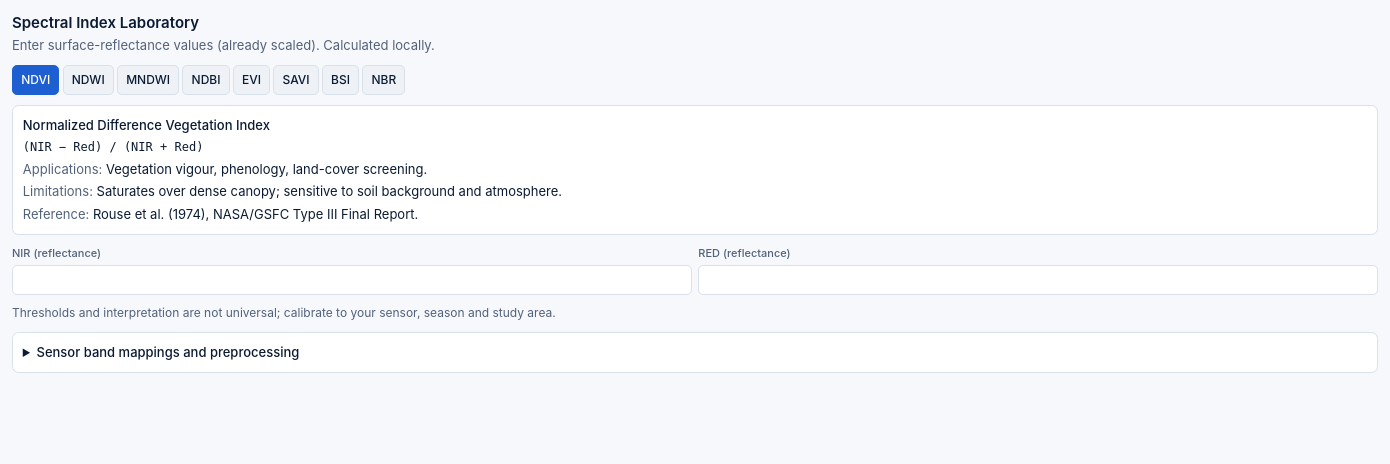
Test case: components › index lab handles zero denominator
This screenshot has width=1390, height=464.
In the field labelled "NIR (reflectance)": (352,280) x1=12 y1=265 x2=692 y2=295, type "0"
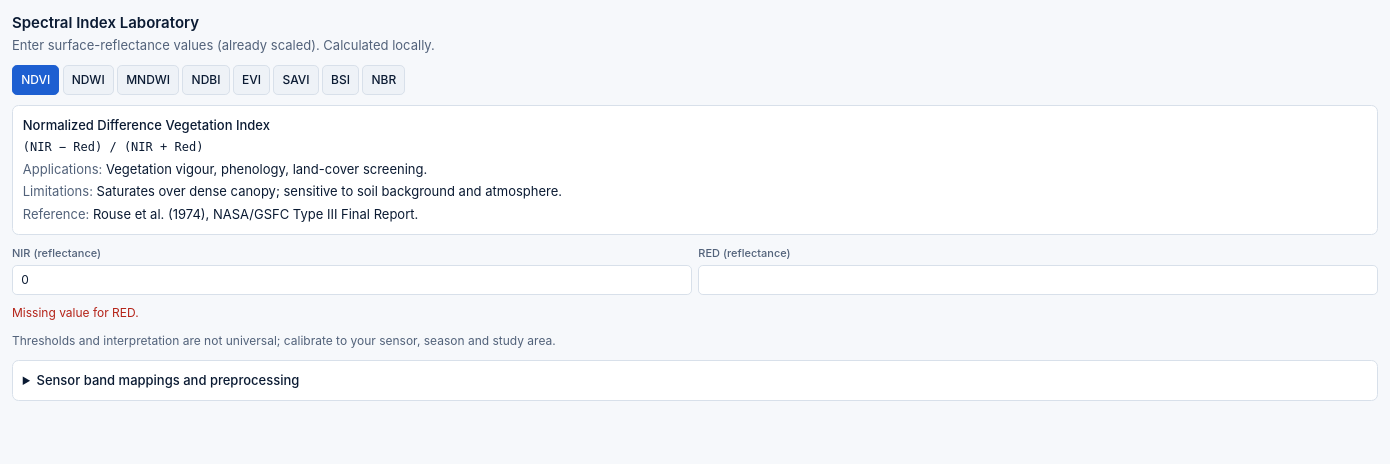
In the field labelled "RED (reflectance)": (1038,280) x1=698 y1=265 x2=1378 y2=295, type "0"
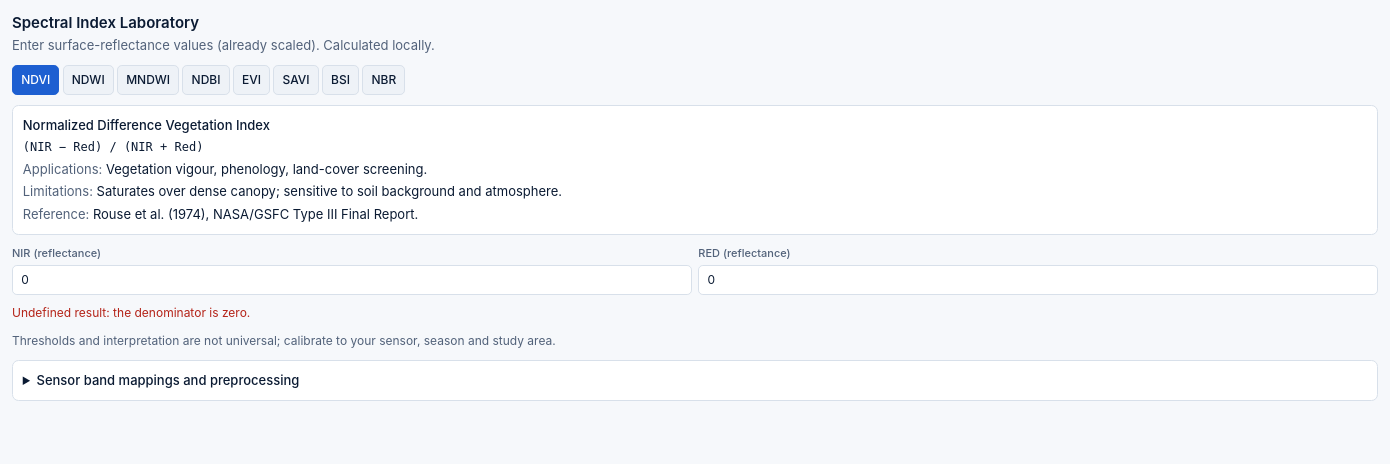
Now the message "Undefined result: the denominator is zero." is shown, box x1=12 y1=305 x2=250 y2=320
Replace the text in the field labelled "NIR (reflectance)" with "0.5": (352,280) x1=12 y1=265 x2=692 y2=295
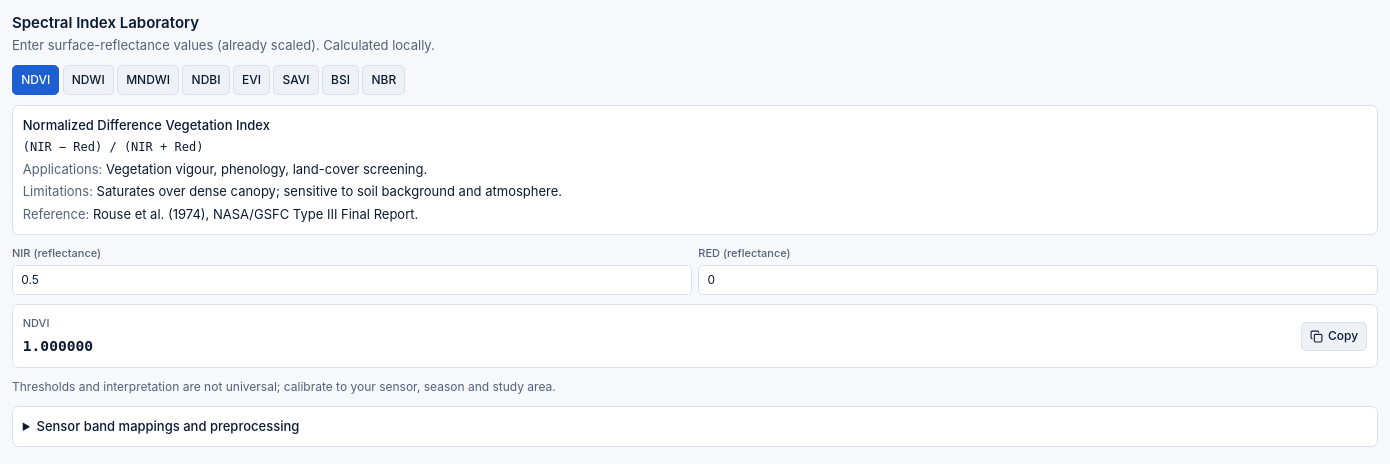
Replace the text in the field labelled "RED (reflectance)" with "0.1": (1038,280) x1=698 y1=265 x2=1378 y2=295
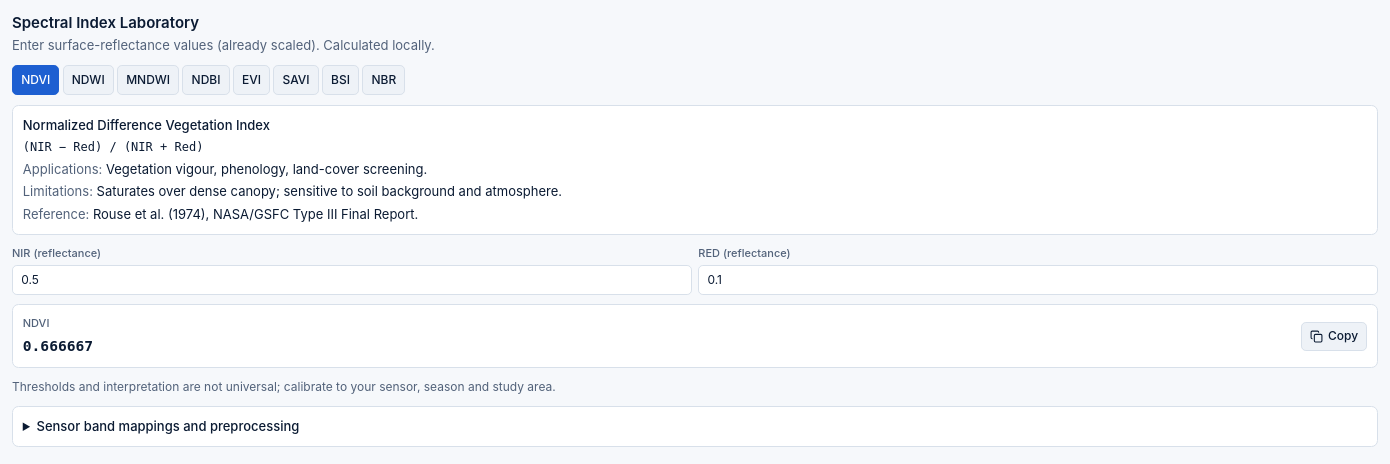
Now the text "0.666667" is shown, box x1=23 y1=335 x2=93 y2=358
